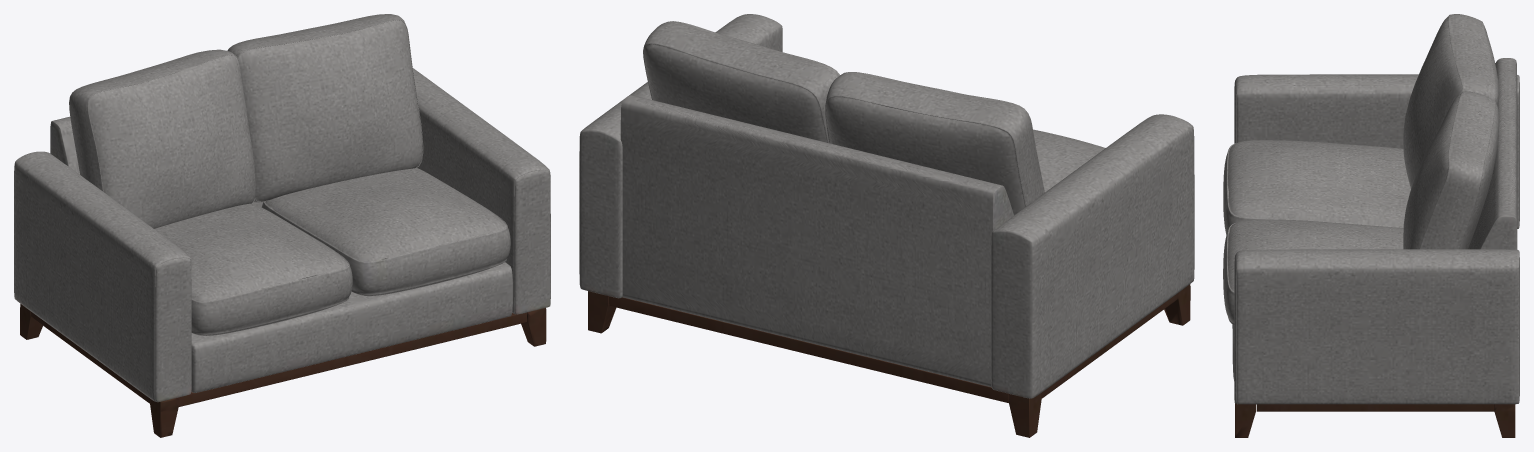
Rendered from B072M1WJC7.glb.
3 renders of one model, left to right at view 1: azimuth 30°, elevation 25°; view 2: azimuth 150°, elevation 25°; view 3: azimuth 270°, elevation 25°, orthographic. The views are drawn at different scales.
Visible parts, largest first — view 1: RootNode; view 2: RootNode; view 3: RootNode.
Boxes of the visible parts, left/top/right/bottom form: RootNode: left=14, top=14, right=550, bottom=437; RootNode: left=579, top=14, right=1194, bottom=437; RootNode: left=1223, top=14, right=1519, bottom=437.
Bounding box in the file's own units: 1.42 × 0.8731 × 0.9173.
Materials: 1 (1 with a texture image).
